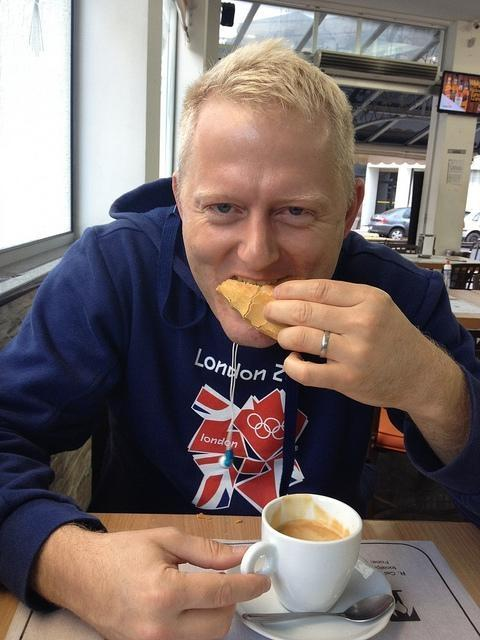car: (368, 207, 411, 239)
